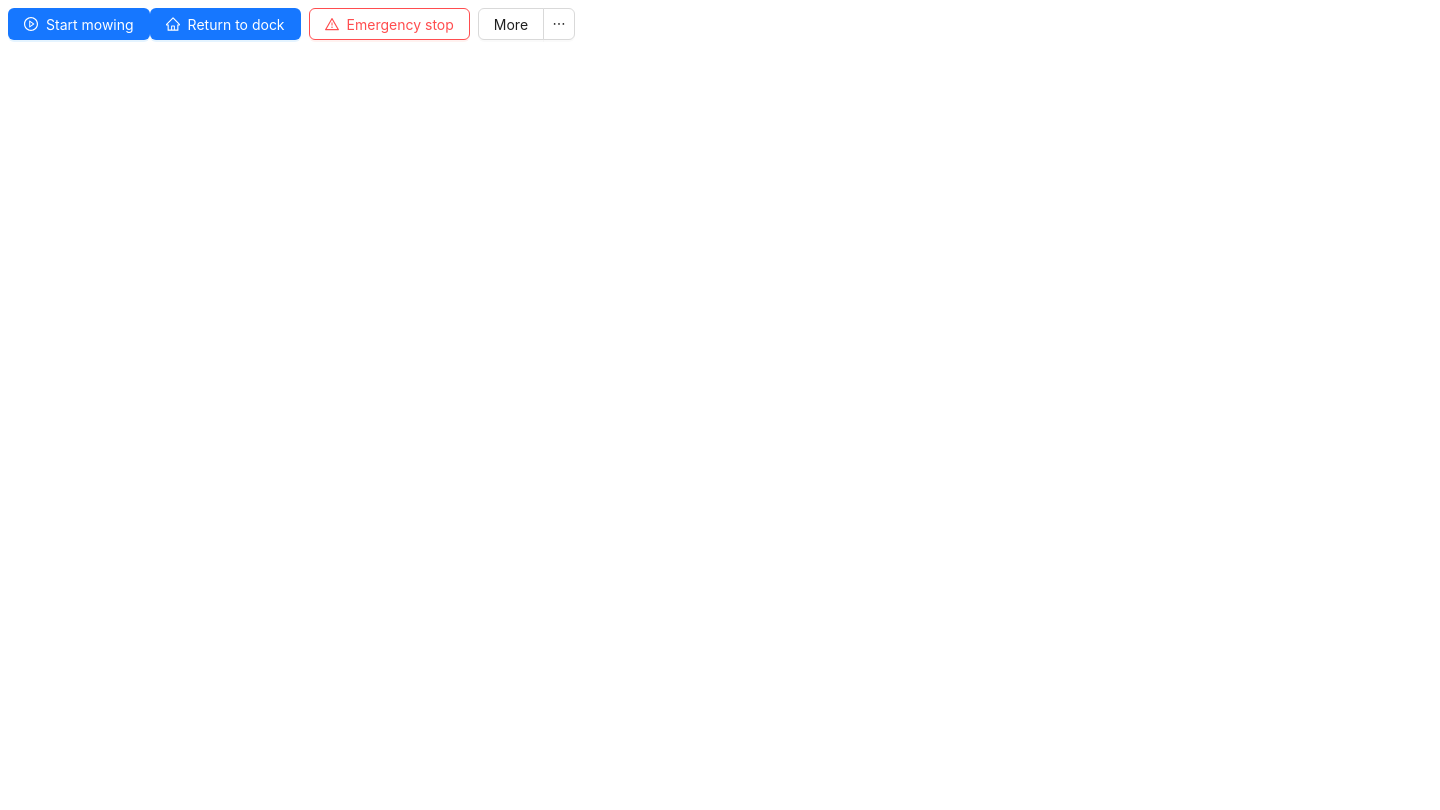
Test: MowerActions real DIG_OBSTRUCTION acknowledgement integration › confirmed start releases before starting and never starts after a failed release
What coordinates should you click on to do the following:
click the button "Start mowing"
I would click on:
 (79, 24)
Its box is [8,8,150,40].
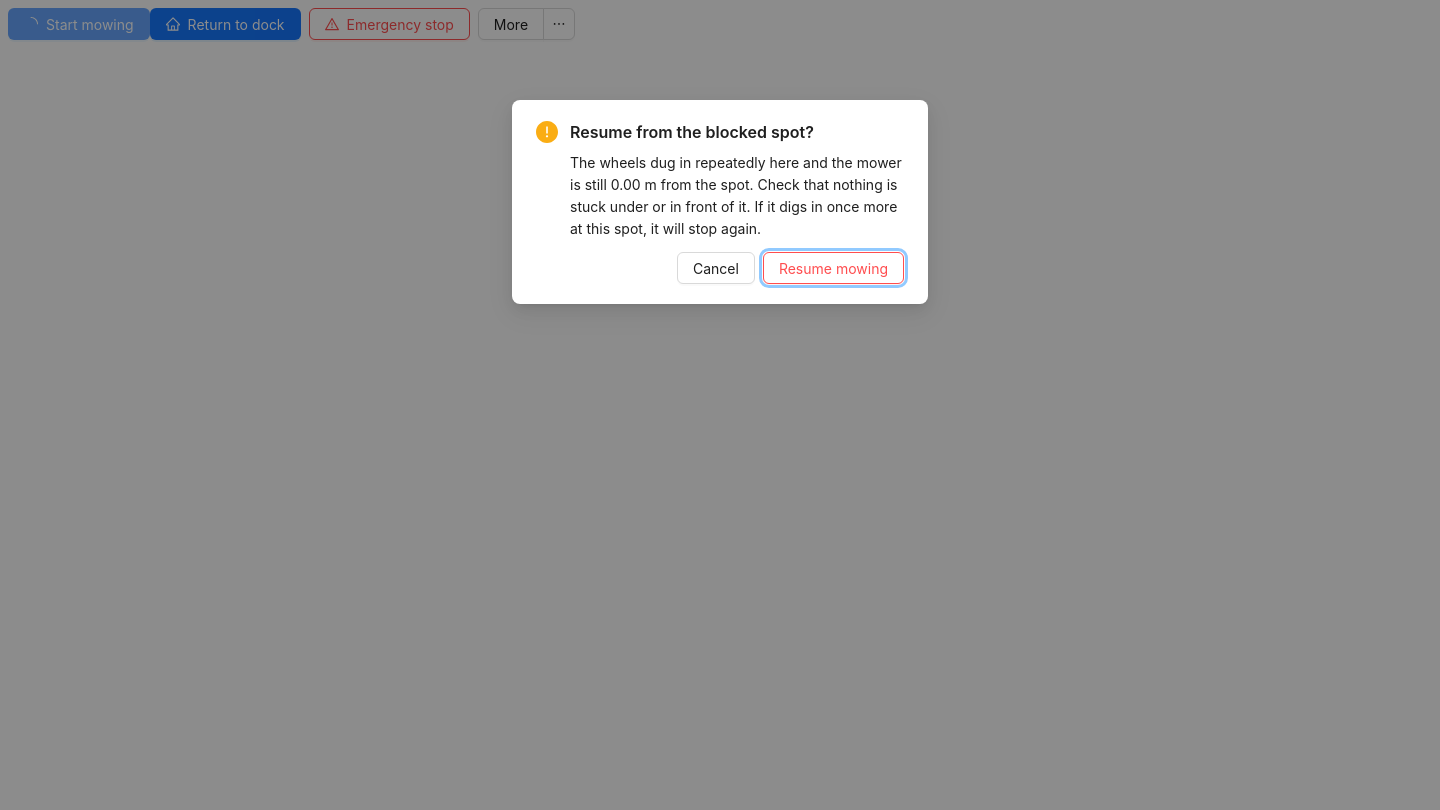
What coordinates should you click on to do the following:
click the button "Resume mowing"
I would click on:
 (833, 268)
Its box is [763,252,904,284].
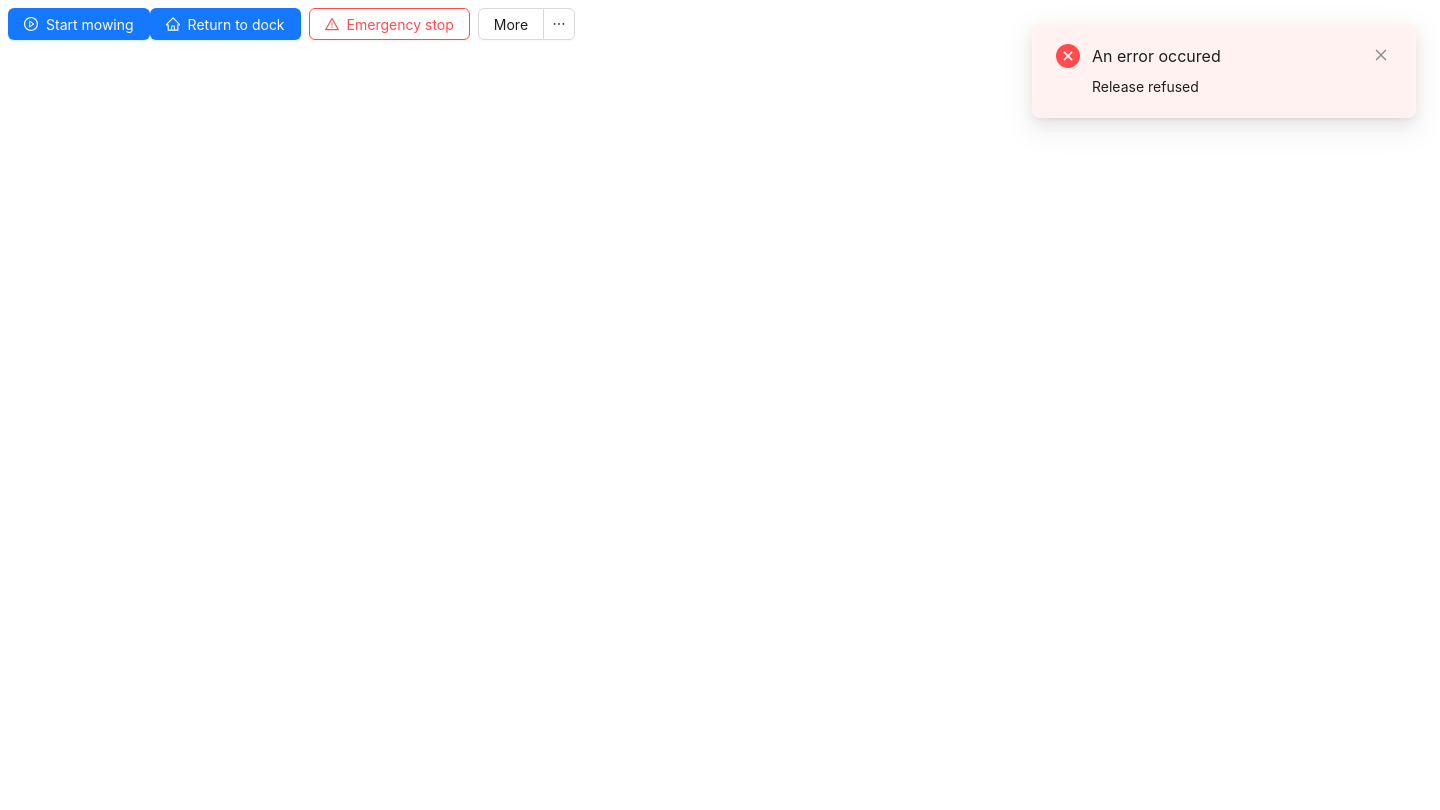
Expected: the text "Release refused" is shown, [1092,78,1199,95]
